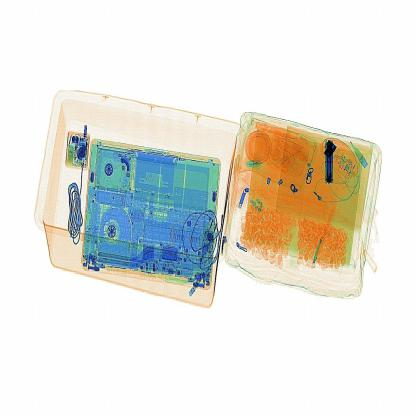scissors: (320, 134, 346, 200)
